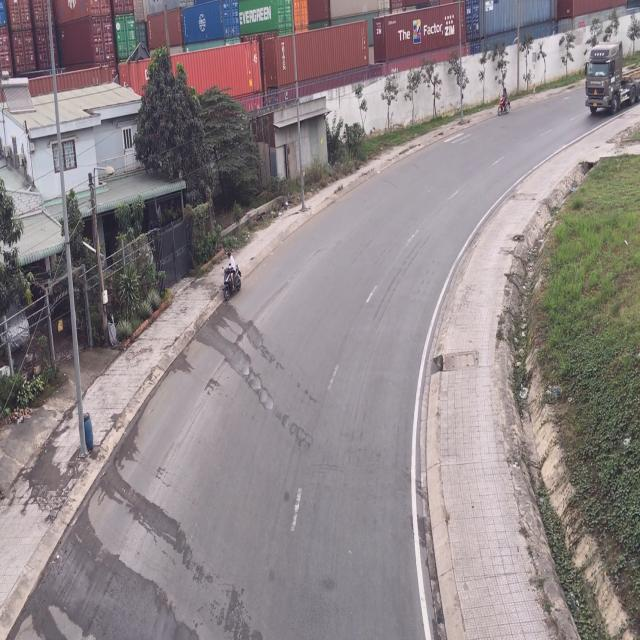motorbike: (220, 249, 243, 303), (497, 85, 512, 118)
truck: (583, 40, 640, 116)
